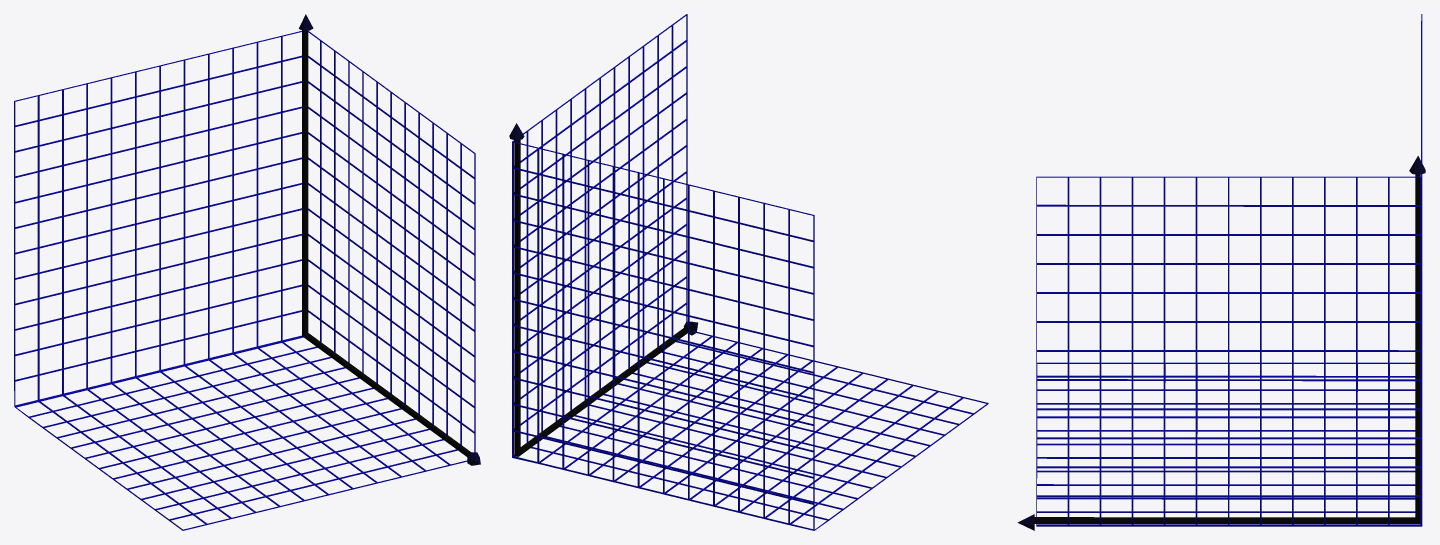
Rendered from Graph(1).fbx.
3 views of the same model, side by side, from view 1: azimuth 30°, elevation 25°; view 2: azimuth 150°, elevation 25°; view 3: azimuth 270°, elevation 25° (orthographic). The views are drawn at different scales.
Visible parts, largest first — view 1: polySurface3, polySurface2, polySurface4, LINE_GRAPH:Line, LINE_GRAPH:Line1; view 2: polySurface3, polySurface4, polySurface2, LINE_GRAPH:Line, LINE_GRAPH:Line1; view 3: polySurface4, polySurface2, LINE_GRAPH:Line1, LINE_GRAPH:Line.
Part boxes in pixels (x1,y1,x2,y2): polySurface3: (14, 31, 301, 406); polySurface2: (14, 336, 467, 530); polySurface4: (308, 31, 475, 452); LINE_GRAPH:Line: (302, 30, 308, 333); LINE_GRAPH:Line1: (302, 332, 471, 456); polySurface3: (512, 141, 814, 530); polySurface4: (512, 14, 687, 455); polySurface2: (515, 330, 988, 530); LINE_GRAPH:Line: (514, 139, 520, 452); LINE_GRAPH:Line1: (514, 324, 692, 456); polySurface4: (1036, 176, 1422, 526); polySurface2: (1037, 362, 1415, 512); LINE_GRAPH:Line1: (1034, 517, 1420, 523); LINE_GRAPH:Line: (1415, 174, 1420, 519).
Size of the model in its own units: 9.73 by 10.3 by 10.17.
